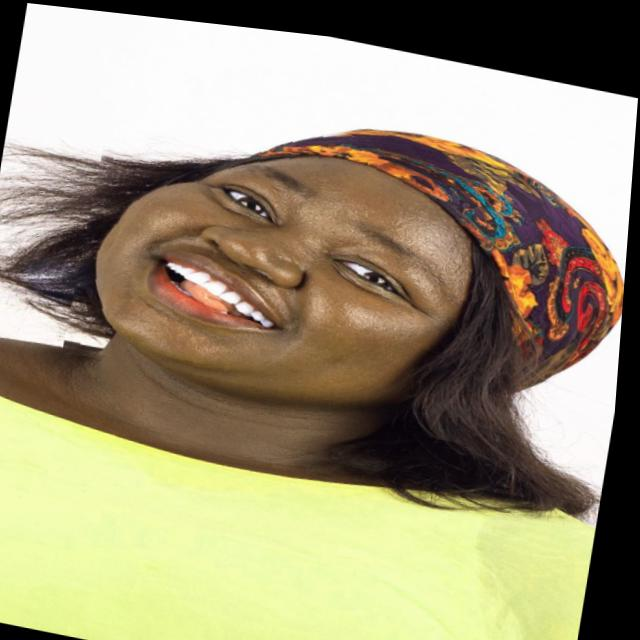happy: (66, 76, 511, 432)
